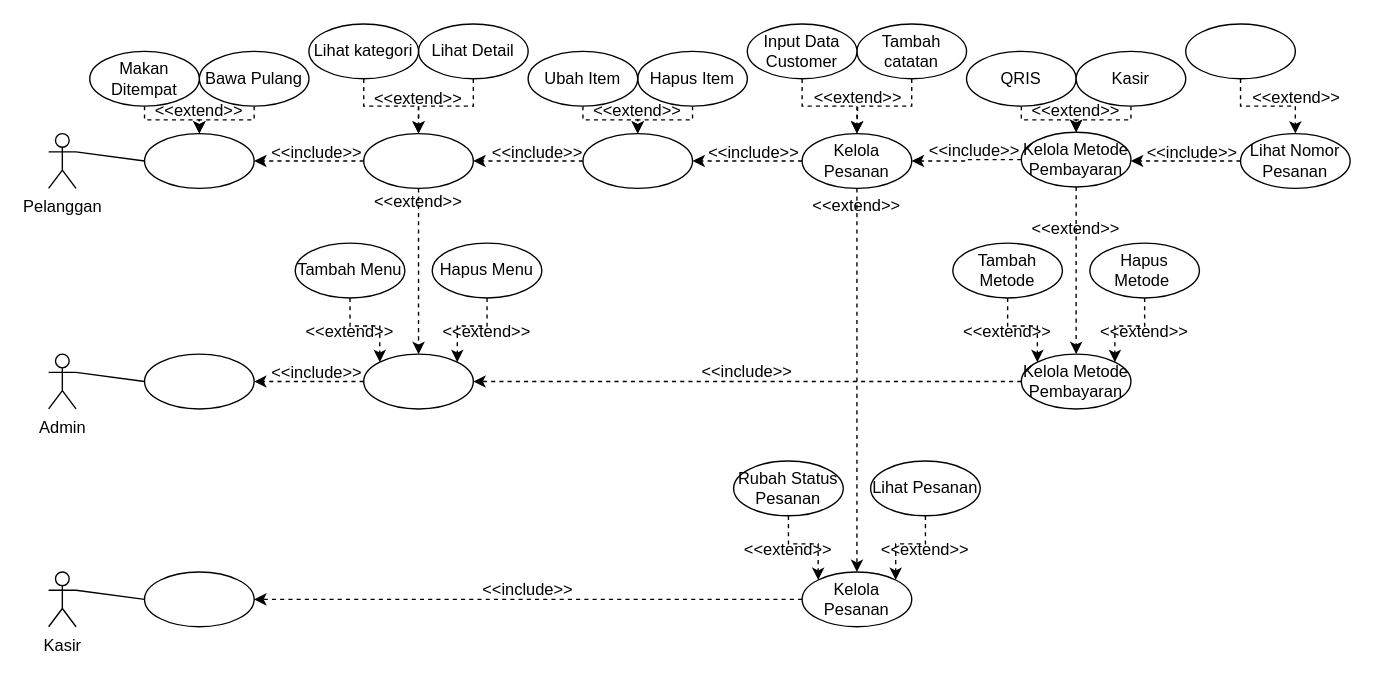
This 1374x680 diagram has some shape labels left out. The shapes that lost their labels are listed below. From the top down, each one's centre as x and y in pixels, then its label:
At (x=1239, y=51): "Cek status Pesanan".
At (x=198, y=160): "Mode Pesanan".
At (x=417, y=160): "Browse Menu".
At (x=637, y=160): "Kelola Keranjang".
At (x=198, y=381): "Login Admin".
At (x=417, y=381): "Kelola Menu".
At (x=198, y=599): "Login Kasir".
